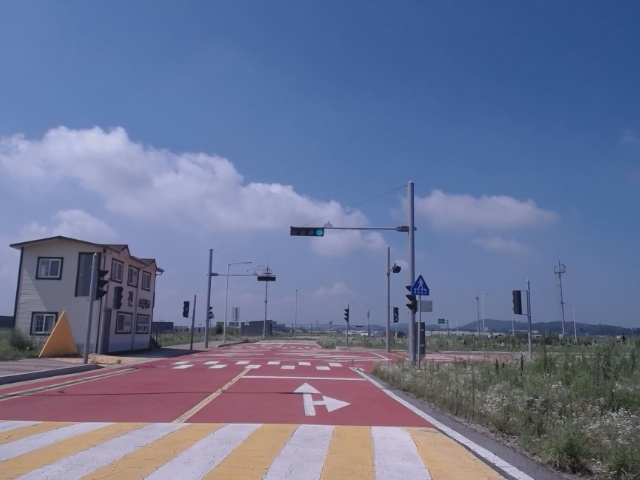straight_green_4: (291, 228, 325, 236)
